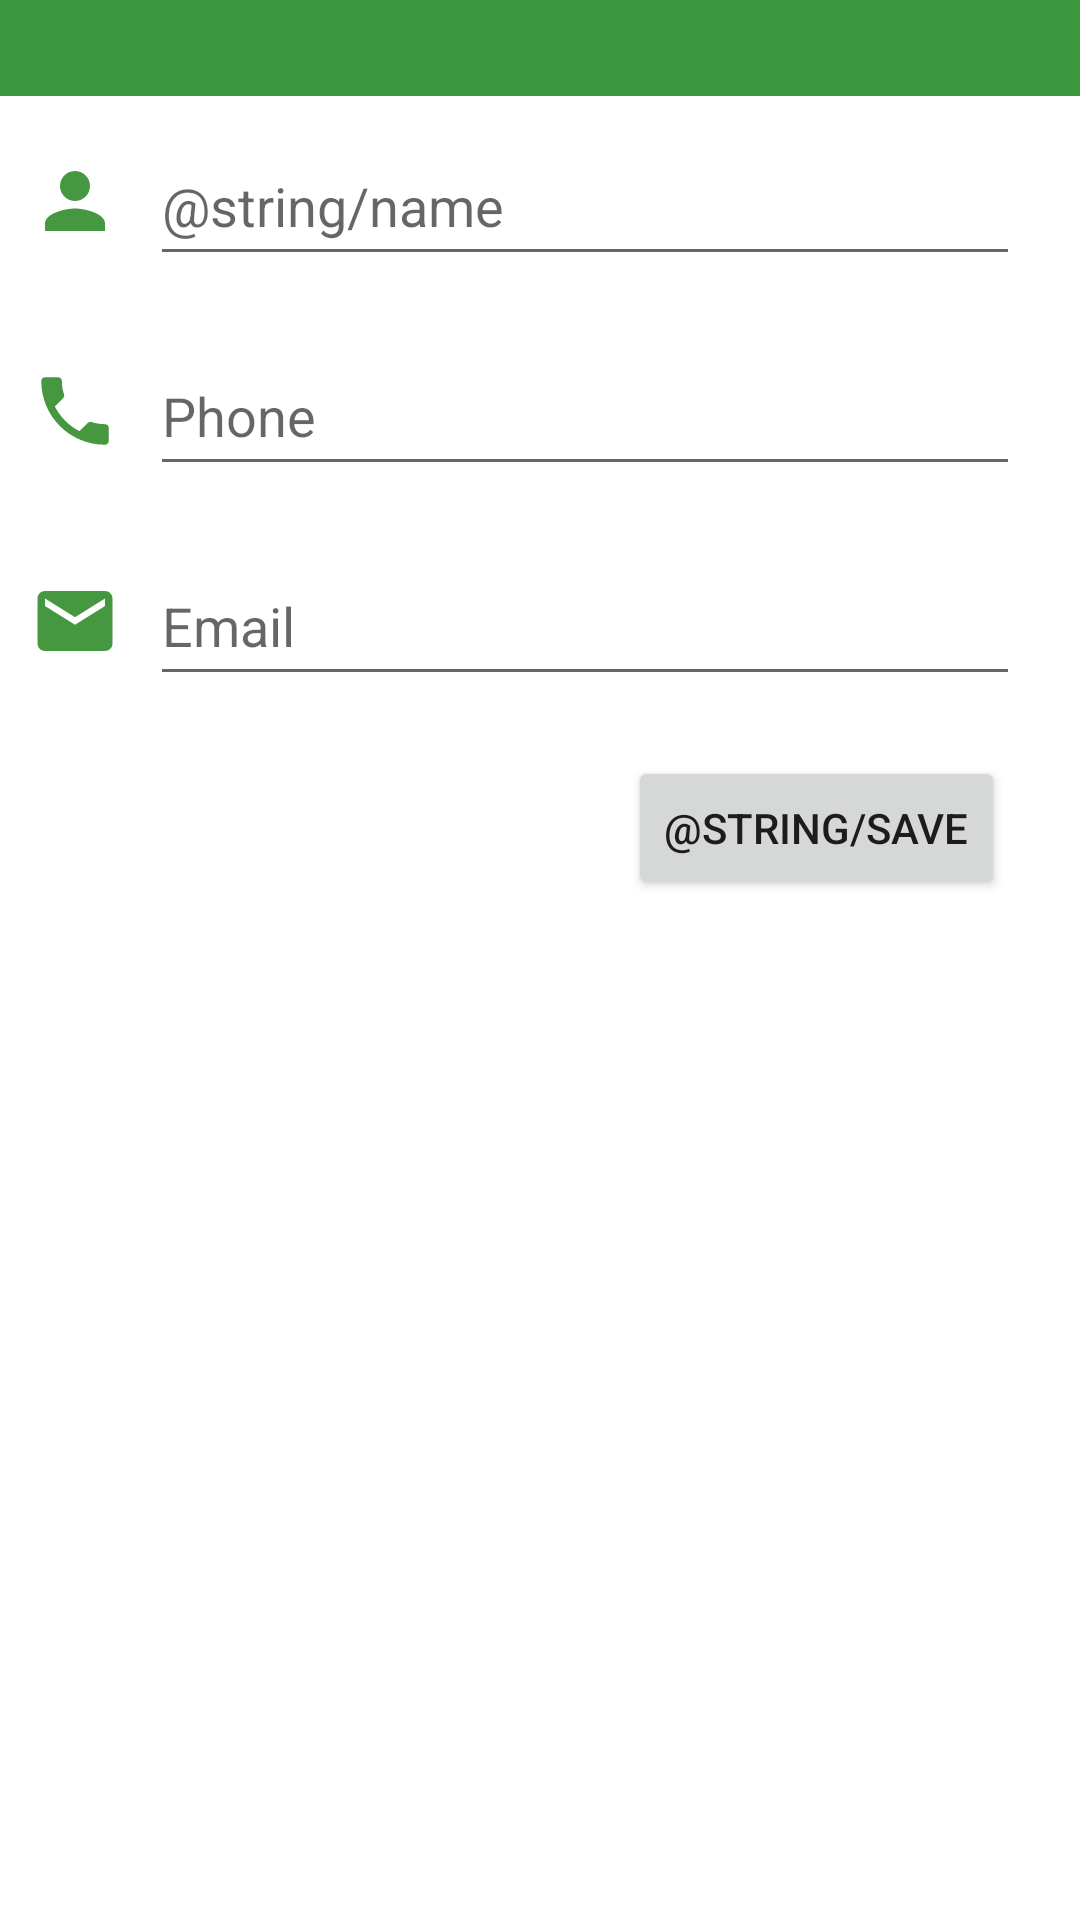

Point at icon controls on the screen. Image size 1080 x 1920, points as [x,y].
person: [75,201]
